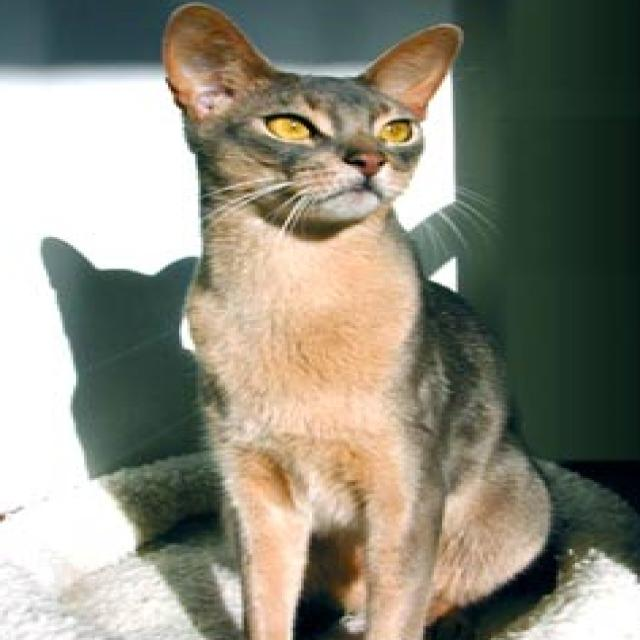Abyssinian: (152, 0, 569, 640)
